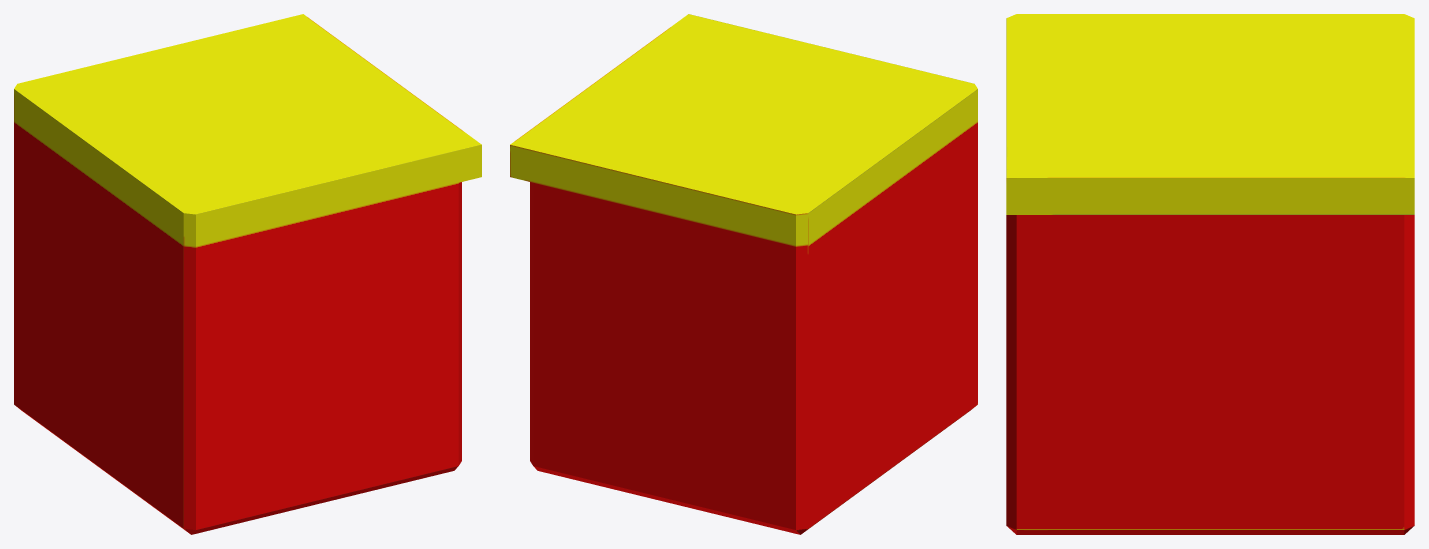
File: STFdish_wash.glb
3 renders of one model, left to right at view 1: azimuth 30°, elevation 25°; view 2: azimuth 150°, elevation 25°; view 3: azimuth 270°, elevation 25°, orthographic. The views are drawn at different scales.
Visible parts, largest first — view 1: STFdish_wash; view 2: STFdish_wash; view 3: STFdish_wash.
Boxes of the visible parts, <box> form: STFdish_wash: <box>14,14,481,534</box>; STFdish_wash: <box>510,14,977,534</box>; STFdish_wash: <box>1006,14,1414,534</box>.
Size of the model in its own units: 0.95 by 1 by 1.
Materials: 1 (1 with a texture image).
